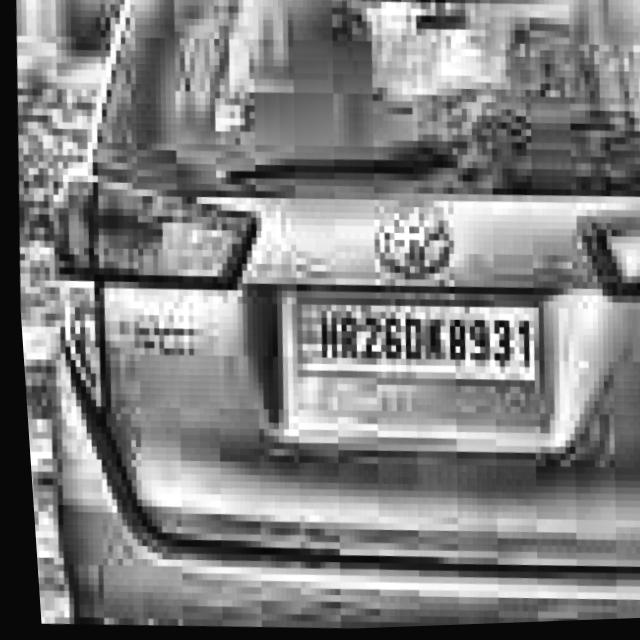light_vehicle: (12, 0, 640, 640)
